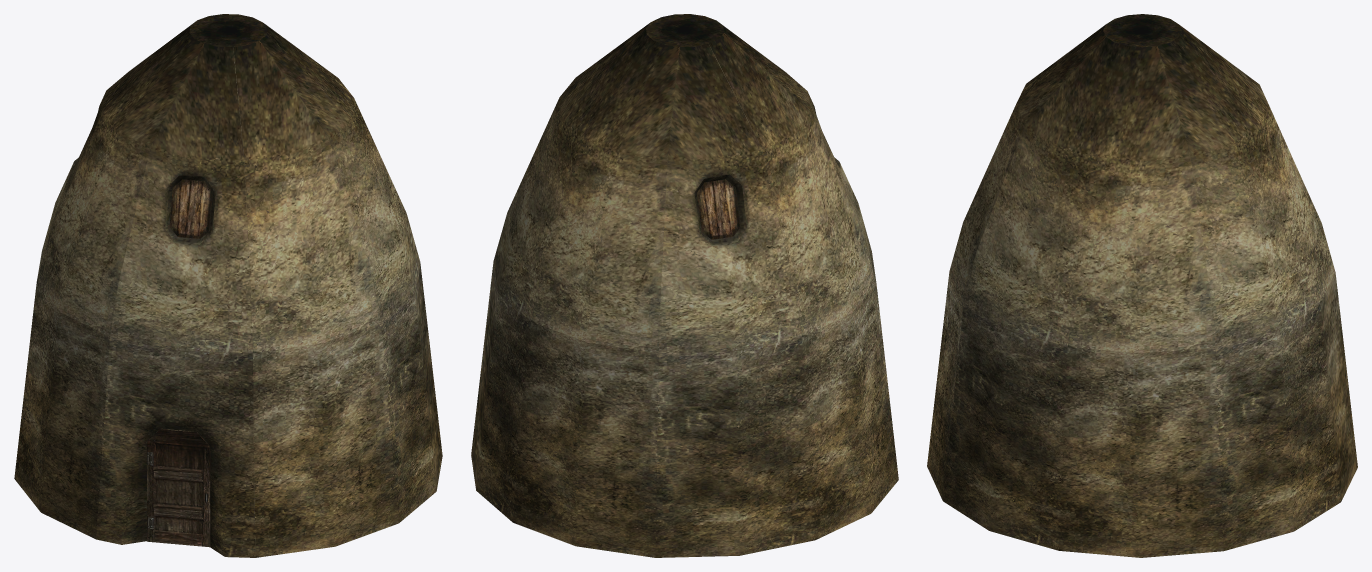
File: hrt_sthouse1.glb
3 renders of one model, left to right at view 1: azimuth 30°, elevation 25°; view 2: azimuth 150°, elevation 25°; view 3: azimuth 270°, elevation 25°, orthographic.
Parts seen in each view (by area): view 1: hrt_sthouse1; view 2: hrt_sthouse1; view 3: hrt_sthouse1.
Boxes of the visible parts, x1=… form: hrt_sthouse1: x1=14, y1=14, x2=442, y2=557; hrt_sthouse1: x1=471, y1=14, x2=898, y2=557; hrt_sthouse1: x1=927, y1=14, x2=1357, y2=557.
Bounding box in the file's own units: 5.5 × 6.15 × 5.5.
4 materials, 4 textured.
